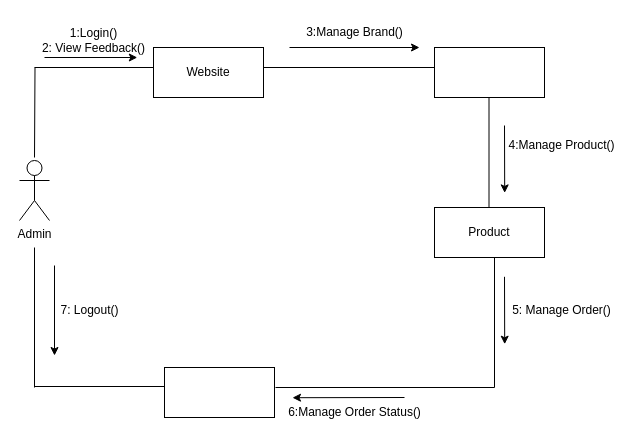
Image size: 643x444. Some labels were removed from this diagram. The shapes that lost their labels are listed below. From the top down, each one's centre as x and y in pixels, then its label:
pixel 489 72: Brand
pixel 219 392: Order
